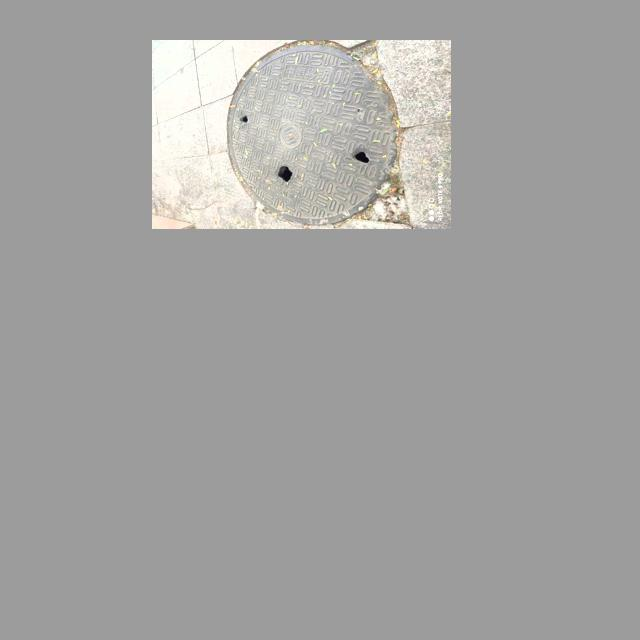broke: (226, 44, 397, 224)
